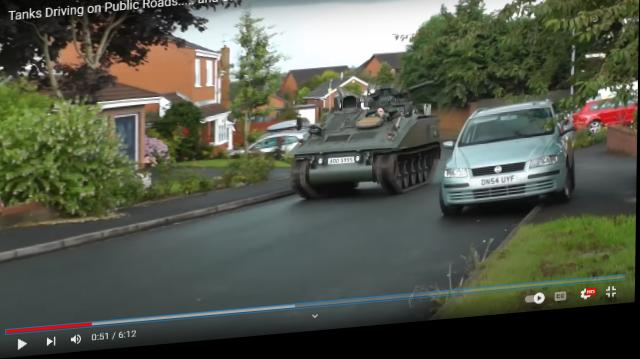tank: (295, 96, 443, 207)
